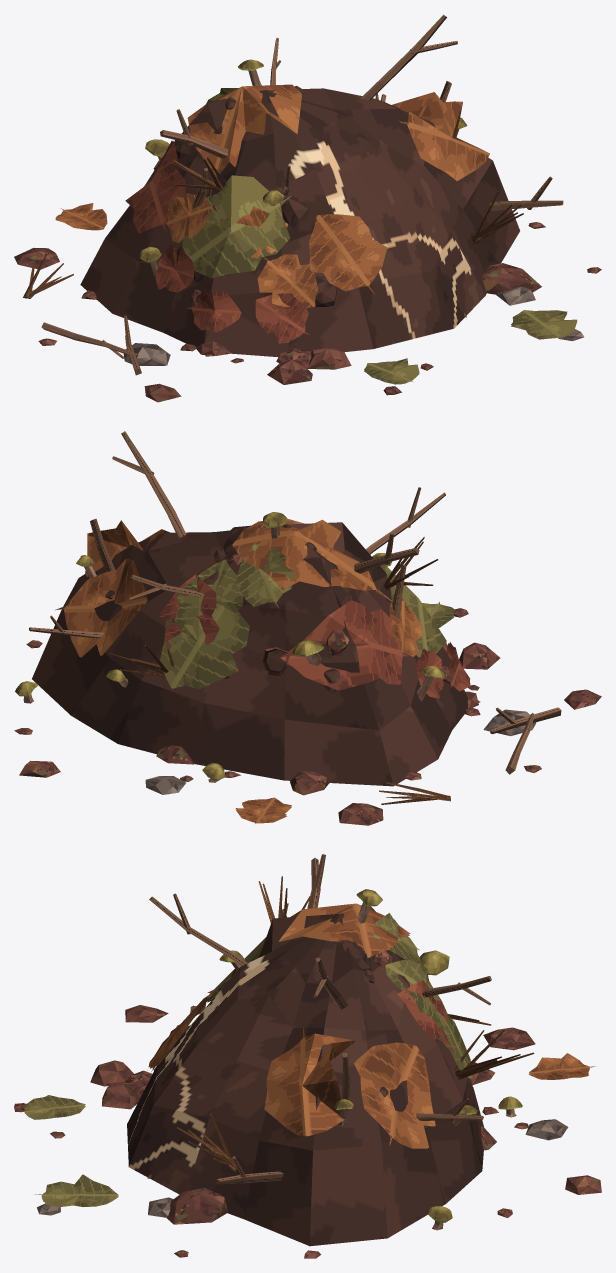
Rendered from SM_AN41_CompostMound.fbx.
3 renders of one model, top to bottom at view 1: azimuth 30°, elevation 25°; view 2: azimuth 150°, elevation 25°; view 3: azimuth 270°, elevation 25°, orthographic. The views are drawn at different scales.
Parts seen in each view (by area): view 1: AN41a_Props; view 2: AN41a_Props; view 3: AN41a_Props.
Part boxes in pixels (x1=…): AN41a_Props: x1=14, y1=14, x2=601, y2=402; AN41a_Props: x1=14, y1=431, x2=601, y2=825; AN41a_Props: x1=14, y1=854, x2=601, y2=1258.
Size of the model in its own units: 1.99 by 0.8794 by 1.87.
